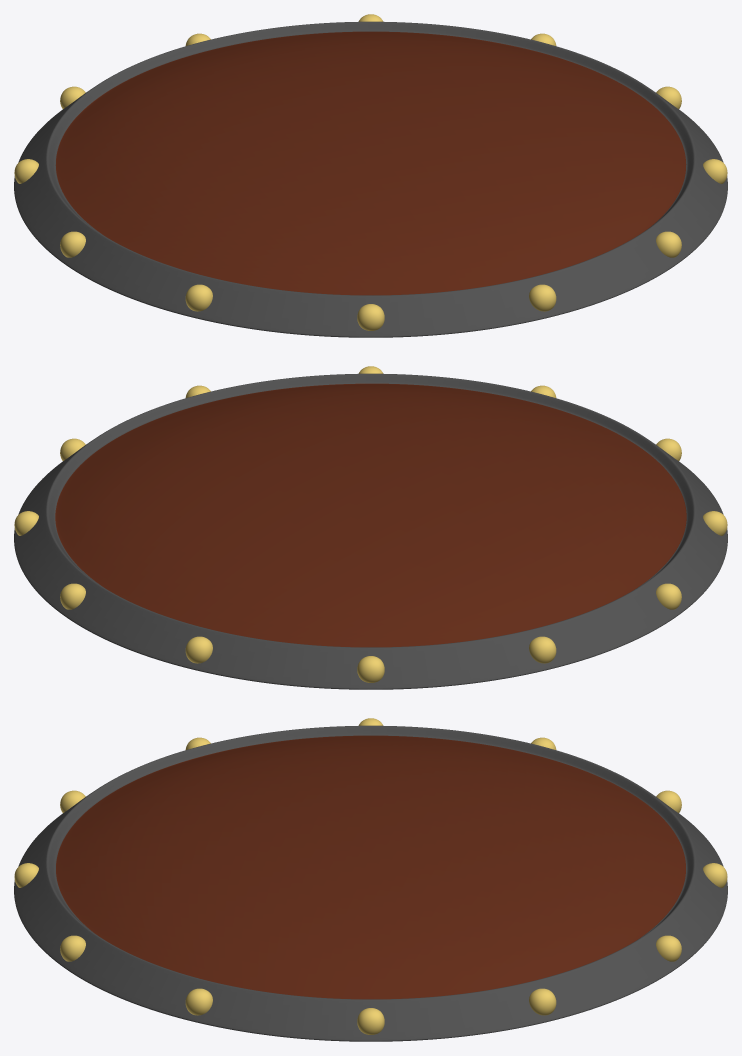
Rendered from shield.fbx.
The picture shows the model from 3 angles, top to bottom: view 1: azimuth 30°, elevation 25°; view 2: azimuth 150°, elevation 25°; view 3: azimuth 270°, elevation 25°; orthographic projection.
Parts seen in each view (by area): view 1: Circle, Cube; view 2: Circle, Cube; view 3: Circle, Cube.
Boxes of the visible parts, x1,y1,x2,y2 form: Circle: (14,21,727,337); Cube: (14,14,727,330); Circle: (14,373,727,689); Cube: (14,366,727,682); Circle: (14,725,727,1041); Cube: (14,718,727,1034).
Size of the model in its own units: 2013 by 219 by 2013.
